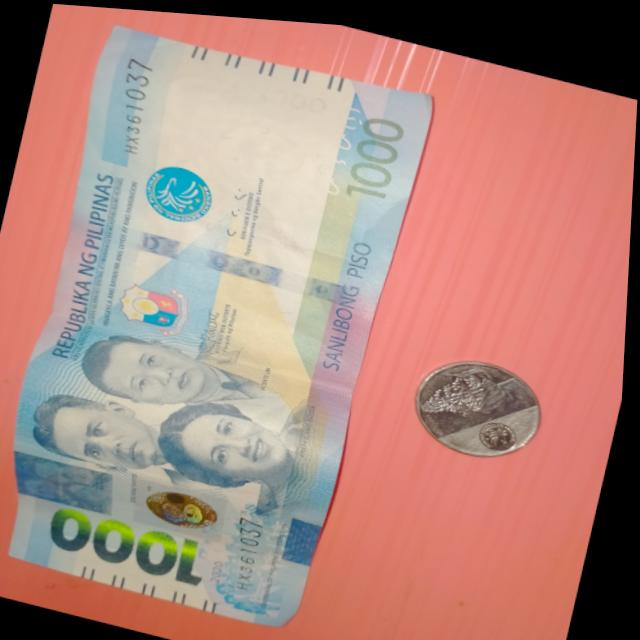concealed_value: (9, 446, 130, 516)
optically_variable_device: (133, 470, 237, 538)
see_through_mark: (309, 89, 373, 210)
value_watermark: (249, 73, 337, 114)
